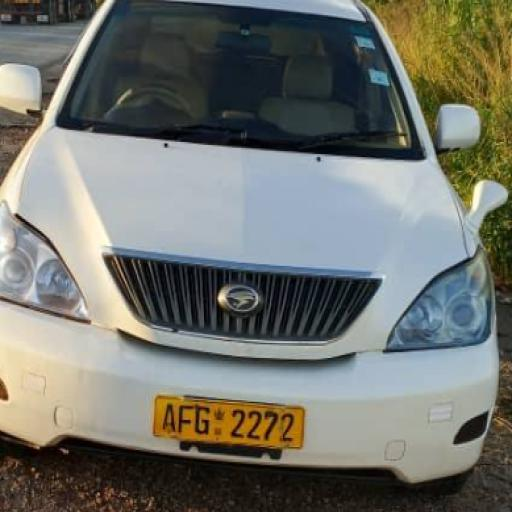number-plates: (153, 396, 311, 442)
